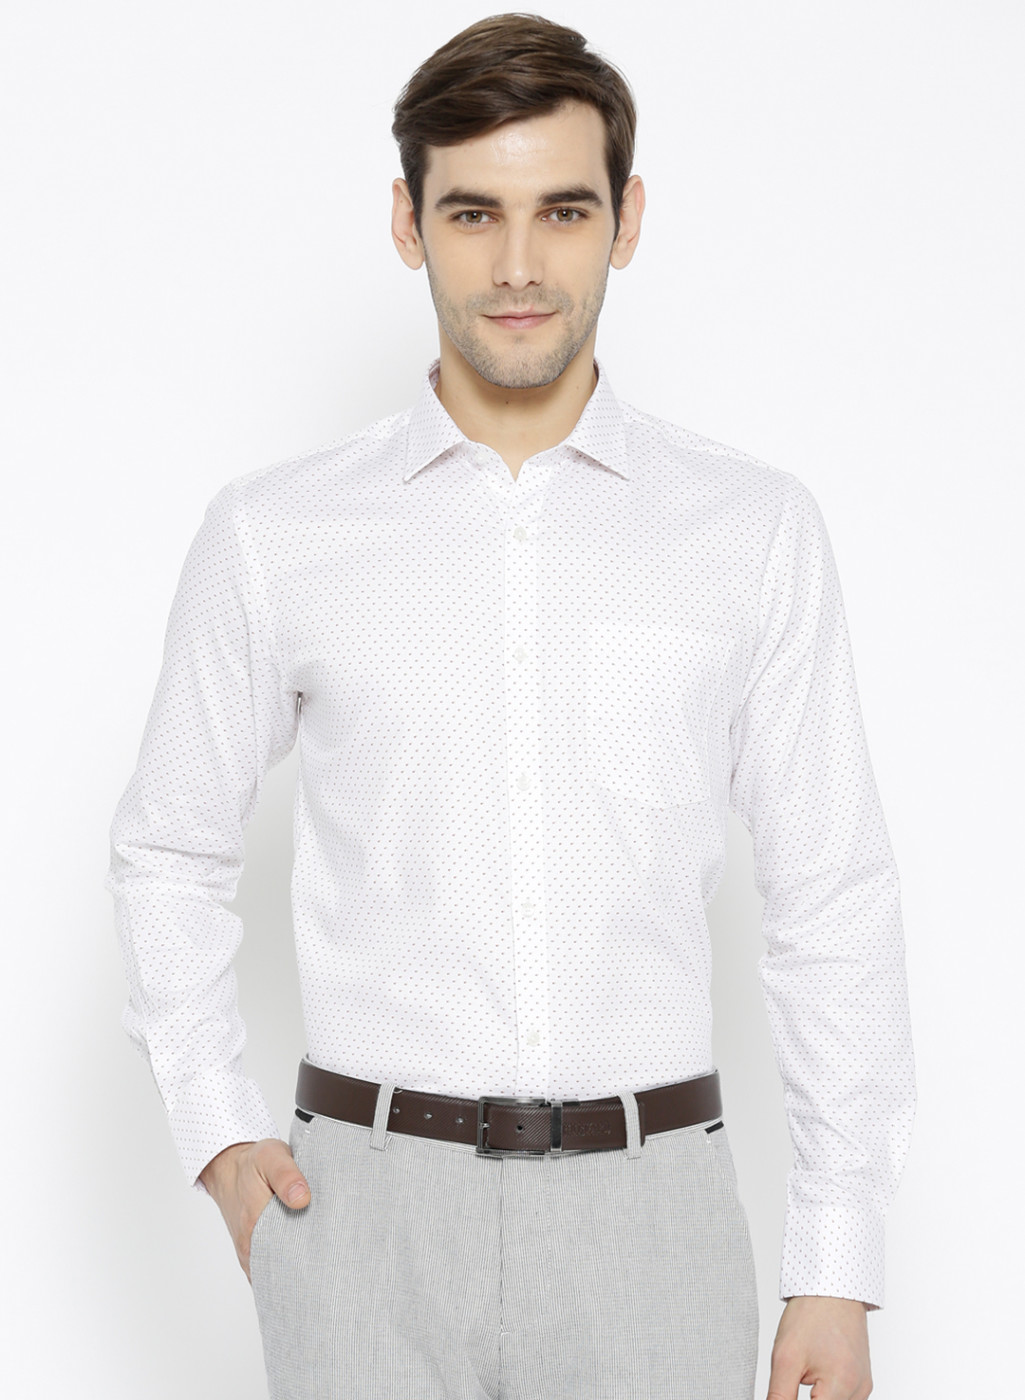F_belt: (286, 1043, 734, 1179)
F_shirt: (110, 393, 930, 1309)
